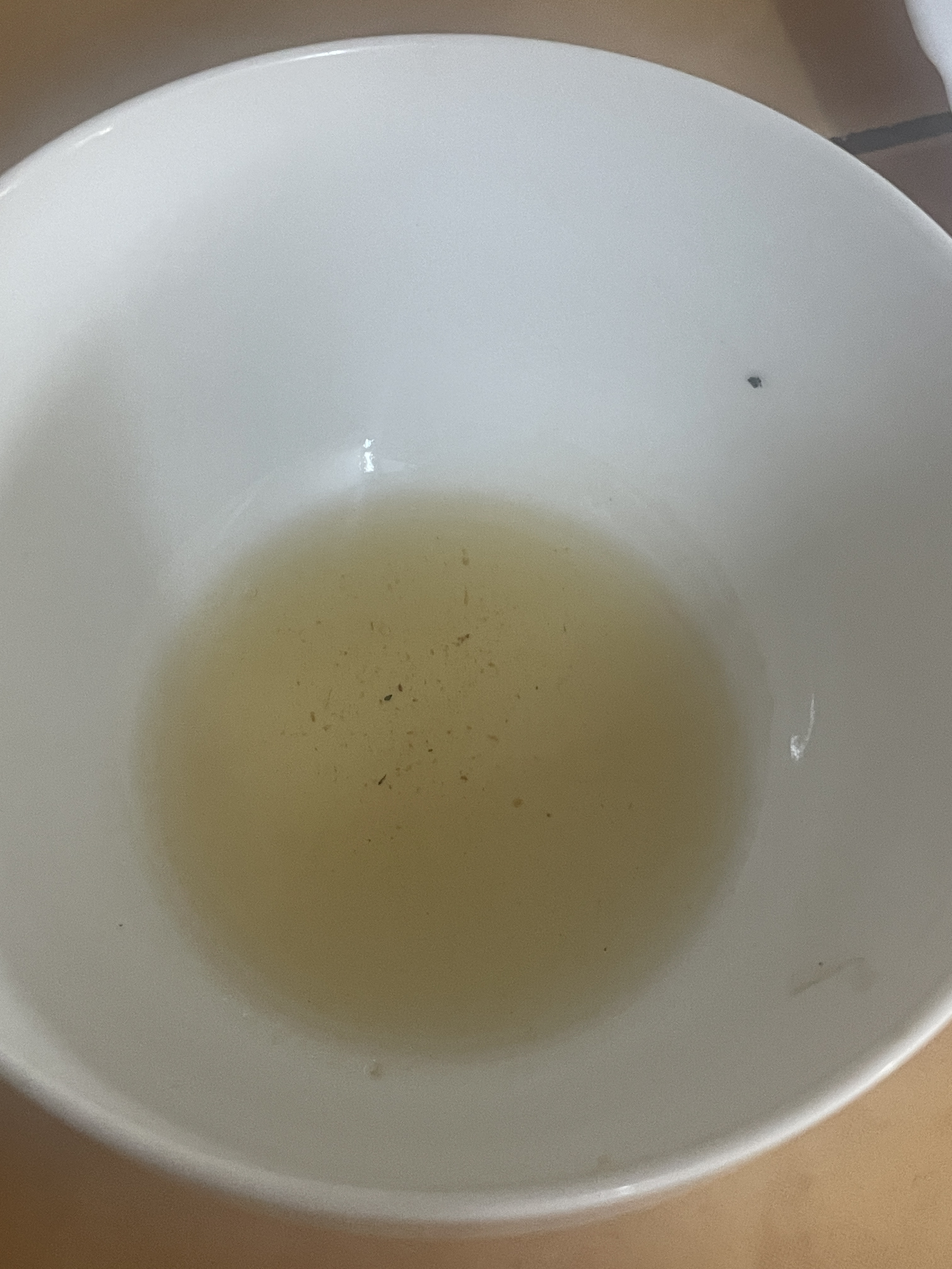reusable: (148, 491, 746, 1054)
